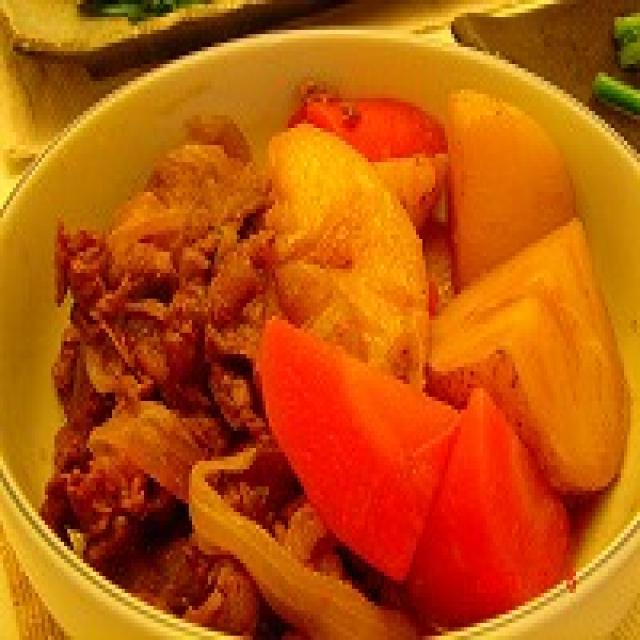牛肉菜式: (0, 21, 640, 640)
